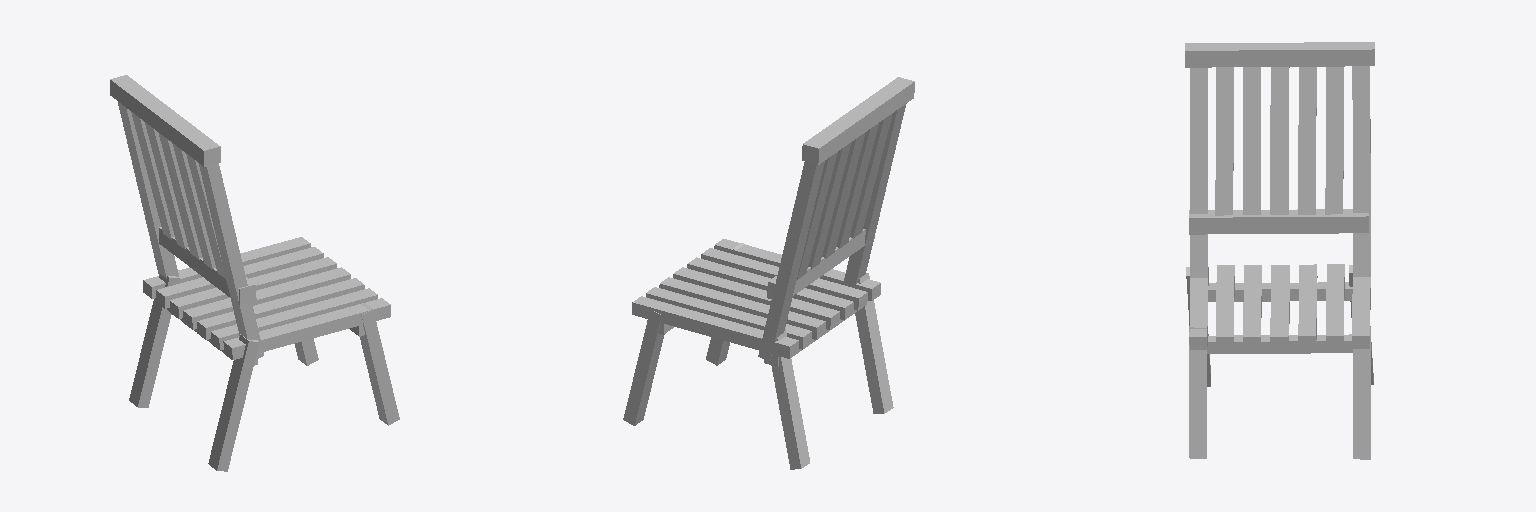
The model's file is chair.obj.
The picture shows the model from 3 angles: view 1: azimuth 30°, elevation 25°; view 2: azimuth 150°, elevation 25°; view 3: azimuth 270°, elevation 25°; orthographic projection.
Visible parts, largest first — view 1: Icosphere.000_Icosphere.000; view 2: Icosphere.000_Icosphere.000; view 3: Icosphere.000_Icosphere.000.
Part boxes in pixels (left/top/right/bottom): Icosphere.000_Icosphere.000: left=110, top=75, right=399, bottom=471; Icosphere.000_Icosphere.000: left=623, top=77, right=914, bottom=469; Icosphere.000_Icosphere.000: left=1185, top=42, right=1374, bottom=459.
Bounding box in the file's own units: 0.7238 × 1.16 × 0.5991.